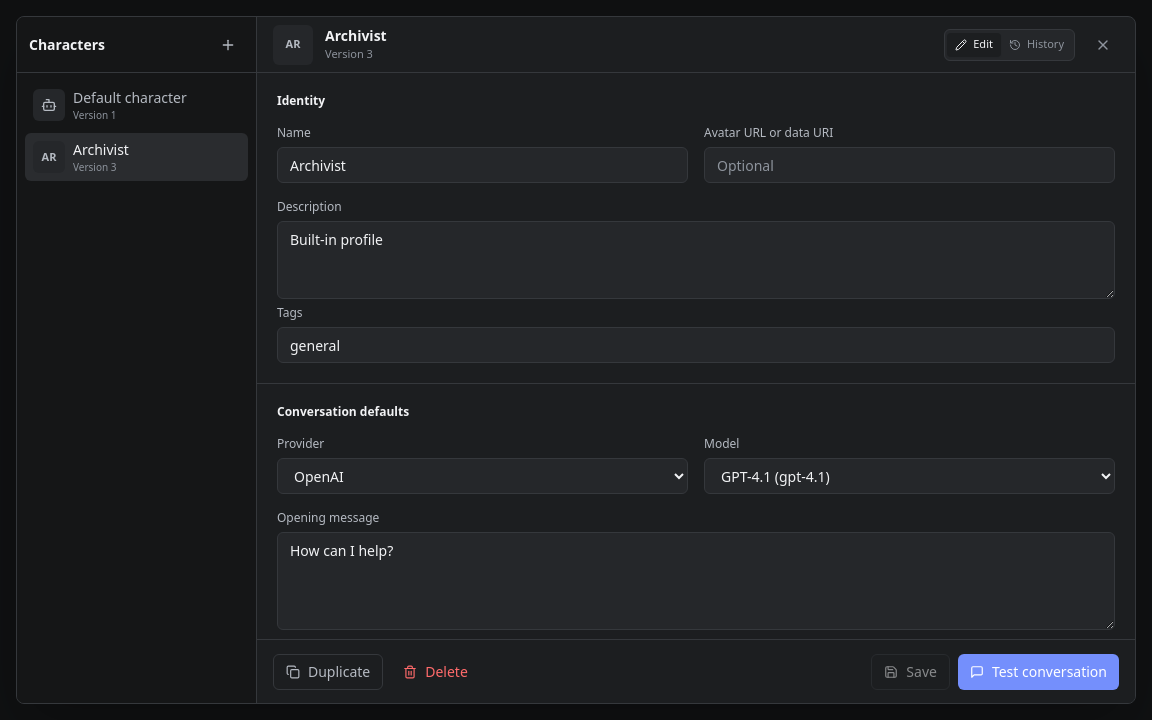
Test: CharacterManager › opens the global version history with an injected history graph
This screenshot has width=1152, height=720.
Step 1. Click the button "History" → [1036, 44], box [1001,32,1072,56]
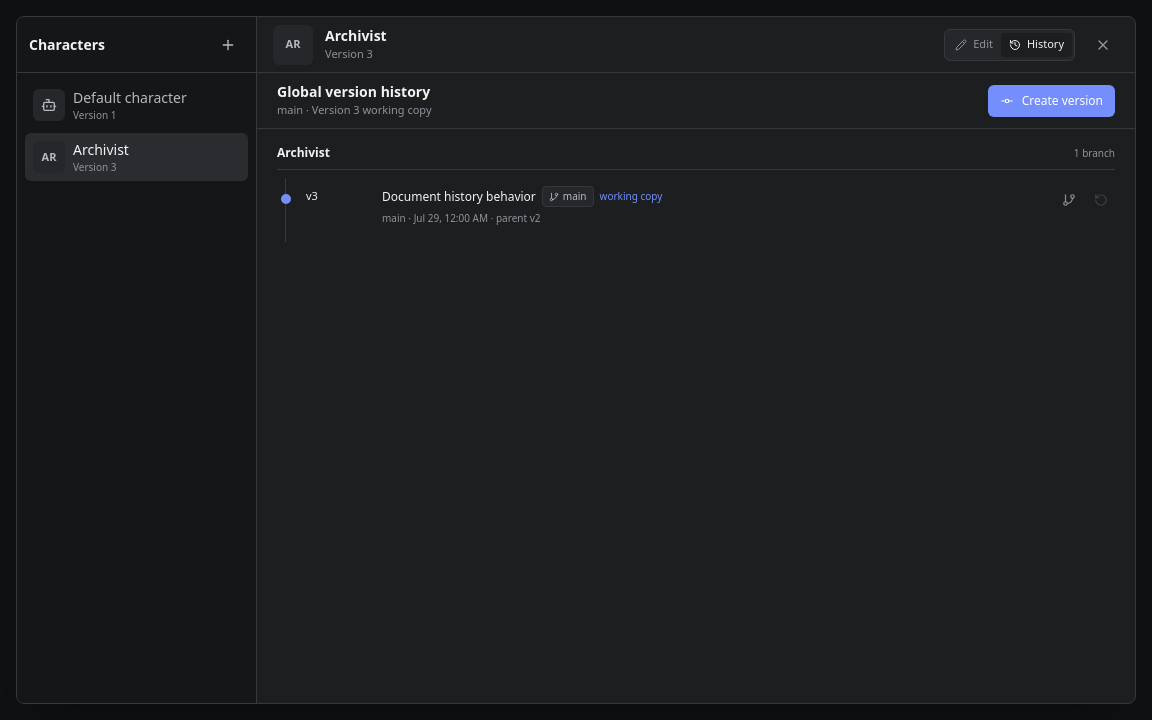
Check: the text "Global version history" is shown, box [277,82,430,101]
Check: the element named "Archivist history" is shown, box [277,145,1115,242]
Check: the text "Document history behavior" is shown, box [382,188,536,204]
